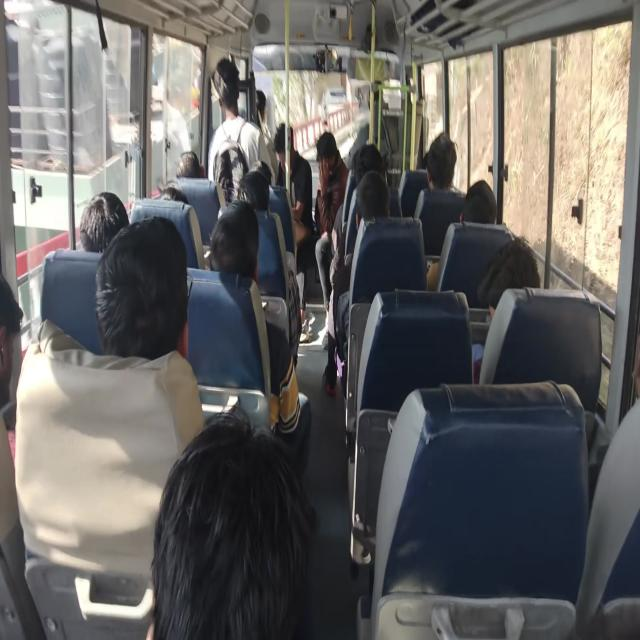person: (147, 408, 316, 636), (94, 215, 191, 362), (476, 238, 542, 313), (208, 199, 258, 280), (1, 270, 23, 436), (78, 192, 129, 255), (424, 132, 458, 194), (356, 168, 390, 224), (352, 142, 387, 194), (462, 178, 497, 224), (238, 167, 272, 214), (212, 58, 240, 109), (176, 150, 204, 180), (156, 183, 191, 205), (279, 122, 298, 160), (315, 131, 339, 161), (252, 89, 268, 124), (251, 159, 273, 183)
